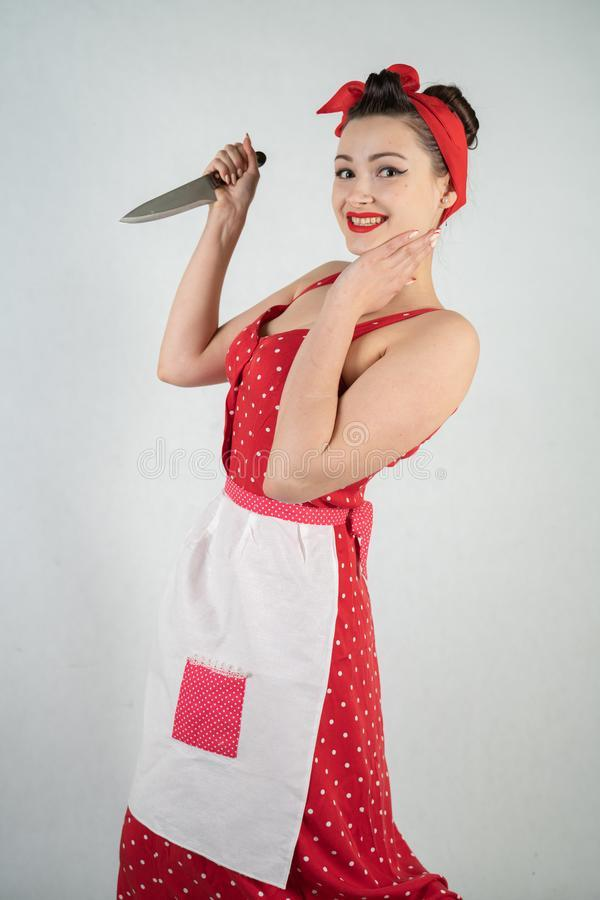criminal: (109, 62, 486, 900)
weapon: (119, 144, 266, 228)
